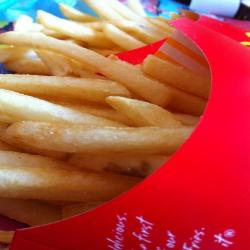fries: (7, 9, 187, 211)
